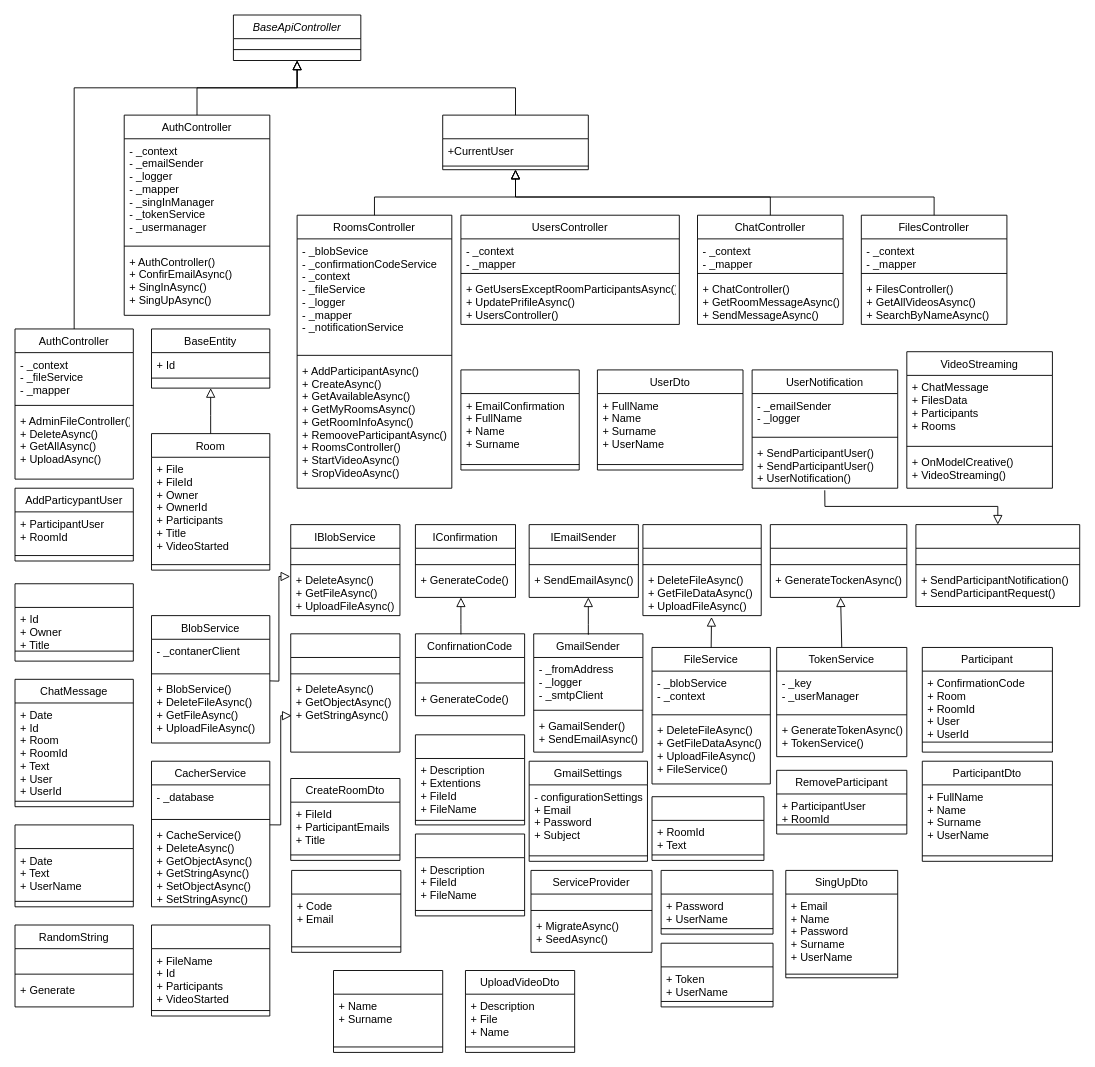
This 1095x1067 diagram has some shape labels left out. The shapes that lost their labels are listed below. From the top down, each one's box as (x1, y1, x2, y2) in pixels, then its label:
(442, 114, 588, 170): BaseAuthApiController
(460, 369, 579, 470): User
(642, 524, 761, 616): IFileService
(769, 524, 907, 597): ITockenService
(915, 524, 1080, 607): IUserNotification
(14, 583, 133, 661): AvalableRoom
(290, 633, 400, 752): ICacheService
(415, 734, 525, 825): FileData
(651, 796, 764, 860): SendMessageDto
(14, 824, 133, 907): ChatMessageDto
(415, 833, 525, 916): FileDataDto
(291, 870, 401, 952): EmailConfirmation
(660, 870, 773, 934): SingInDto
(151, 924, 270, 1016): FullRoomDto
(660, 942, 773, 1007): SingInResultDto
(333, 970, 443, 1052): UpdateProfileDto
